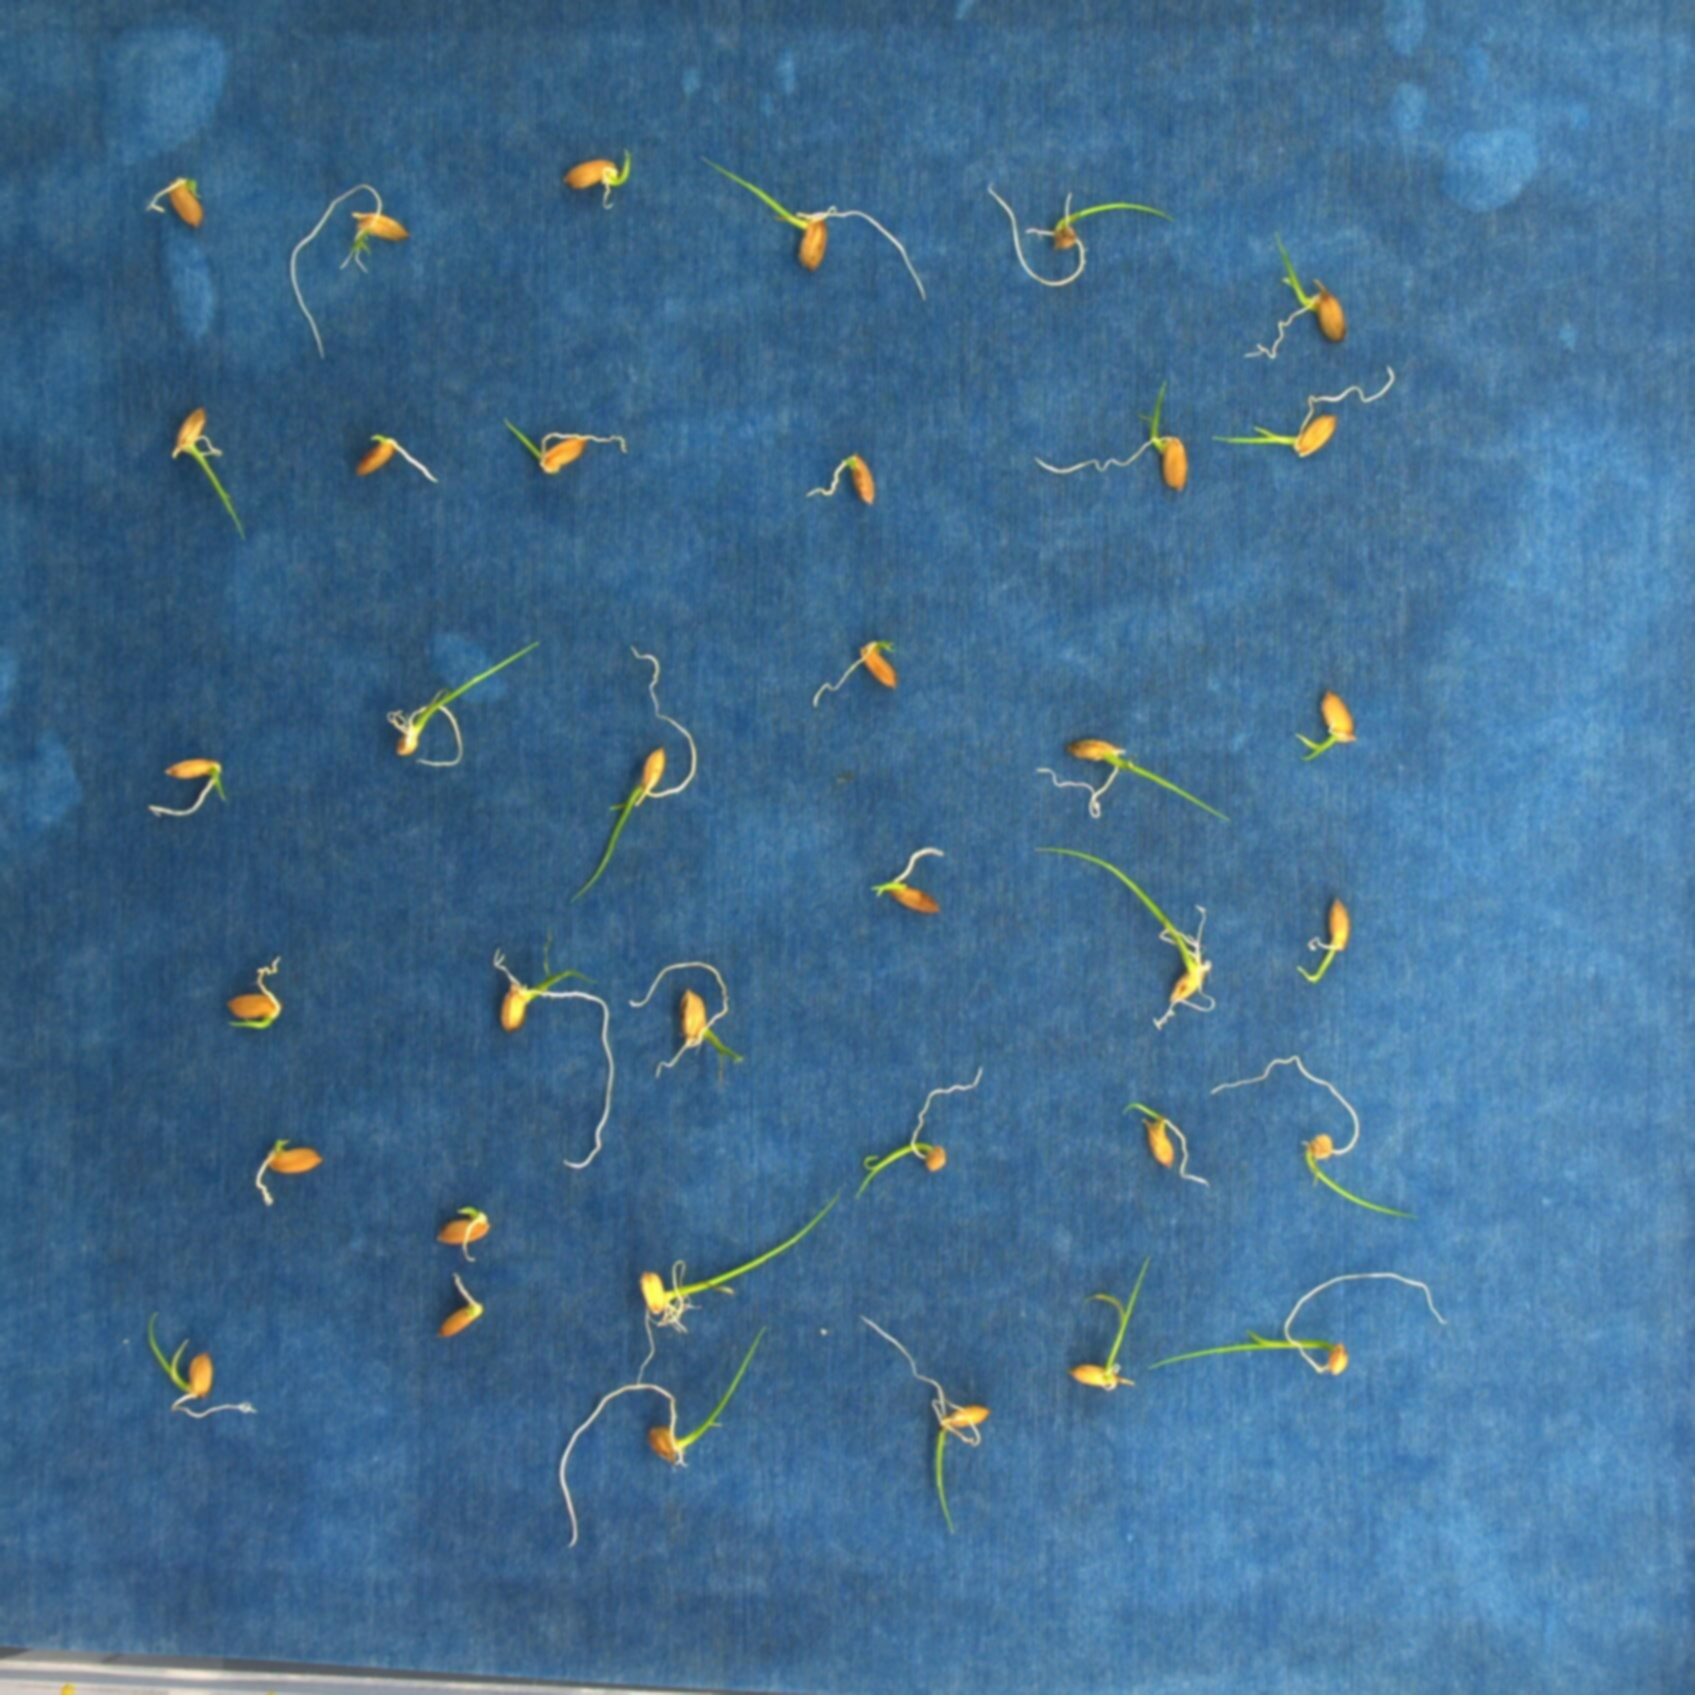not sprout: (337, 413, 447, 498), (810, 632, 922, 706), (865, 843, 959, 925), (799, 450, 896, 512), (251, 1130, 324, 1205), (435, 1276, 494, 1336)
sprout: (540, 1329, 776, 1558), (619, 1183, 849, 1400), (1028, 830, 1225, 1074), (695, 147, 927, 321), (1212, 1046, 1425, 1226), (473, 941, 624, 1183), (1153, 1265, 1450, 1388), (846, 1301, 990, 1544), (577, 649, 706, 894), (281, 171, 413, 365), (983, 174, 1183, 296), (373, 638, 543, 778), (1021, 720, 1225, 832), (855, 1063, 1003, 1212), (1031, 376, 1198, 500), (1203, 362, 1409, 459), (1246, 234, 1375, 380), (619, 956, 764, 1080), (1068, 1251, 1153, 1419), (147, 397, 244, 542), (141, 1319, 261, 1431), (498, 411, 643, 480), (1114, 1093, 1208, 1198), (1288, 893, 1366, 989), (553, 143, 647, 220), (138, 744, 233, 820), (217, 965, 296, 1052), (1284, 681, 1369, 761), (428, 1200, 500, 1263), (141, 168, 210, 231)
